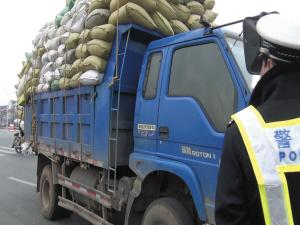chaozhai: (18, 2, 259, 224)
